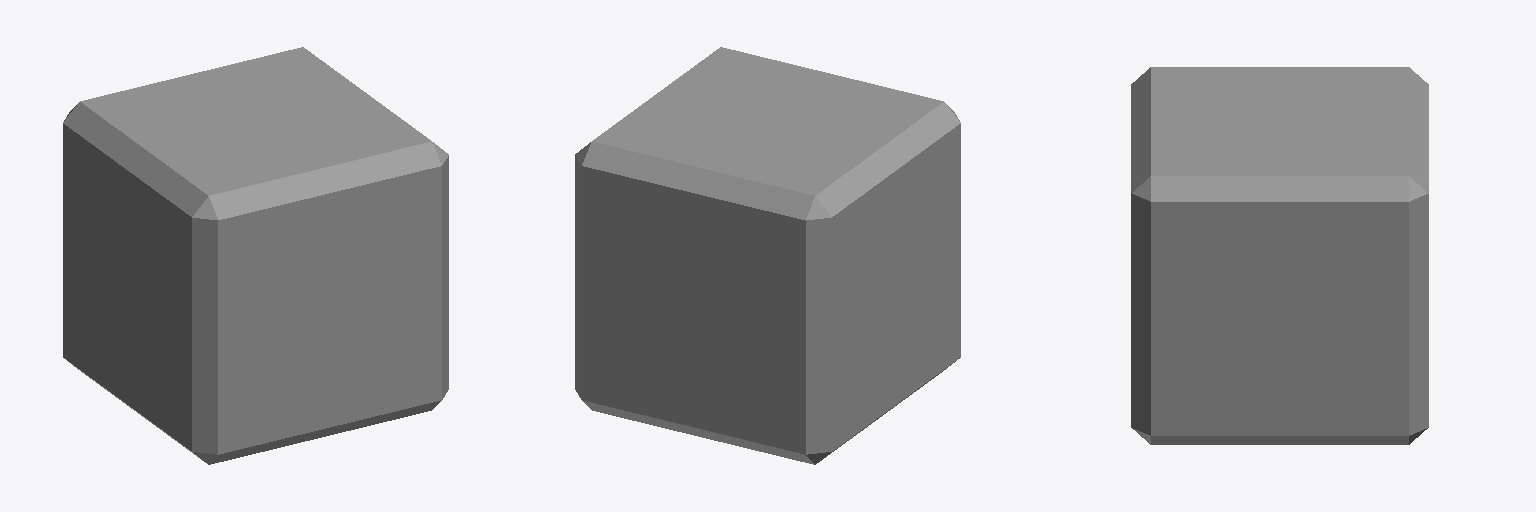
File: Blockv2.obj
The picture shows the model from 3 angles: view 1: azimuth 30°, elevation 25°; view 2: azimuth 150°, elevation 25°; view 3: azimuth 270°, elevation 25°; orthographic projection.
Visible parts, largest first — view 1: block; view 2: block; view 3: block.
Part boxes in pixels (bbox=[...]): block: bbox=[63, 47, 448, 464]; block: bbox=[575, 47, 960, 464]; block: bbox=[1131, 67, 1428, 444].
Size of the model in its own units: 150 by 150 by 150.